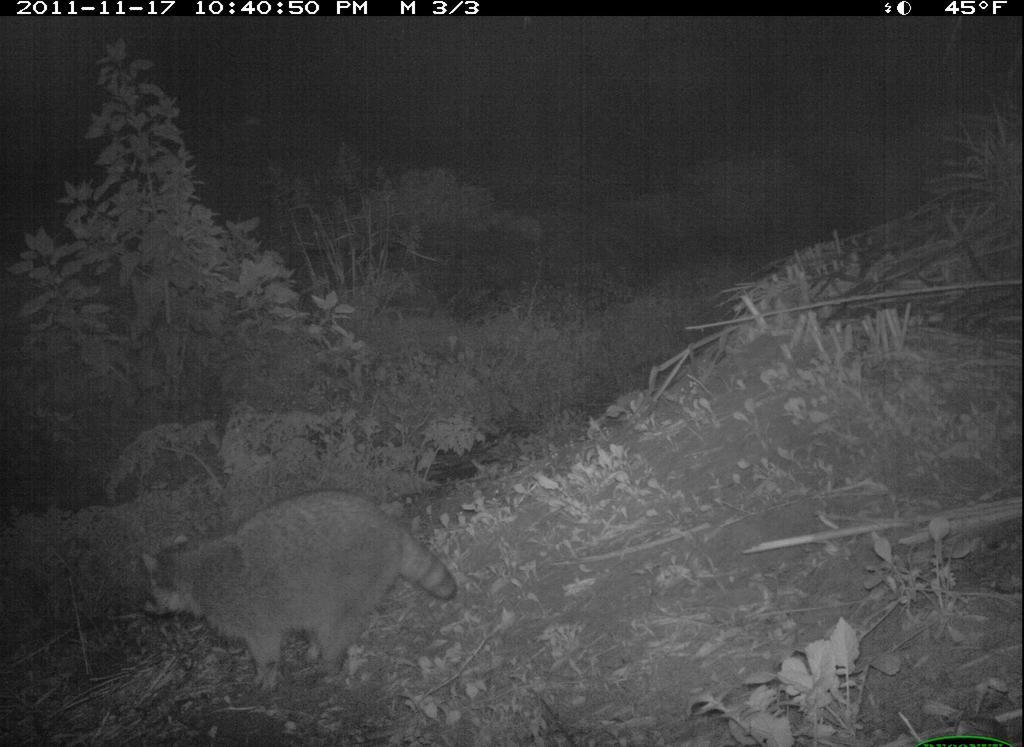raccoon: (135, 487, 472, 697)
